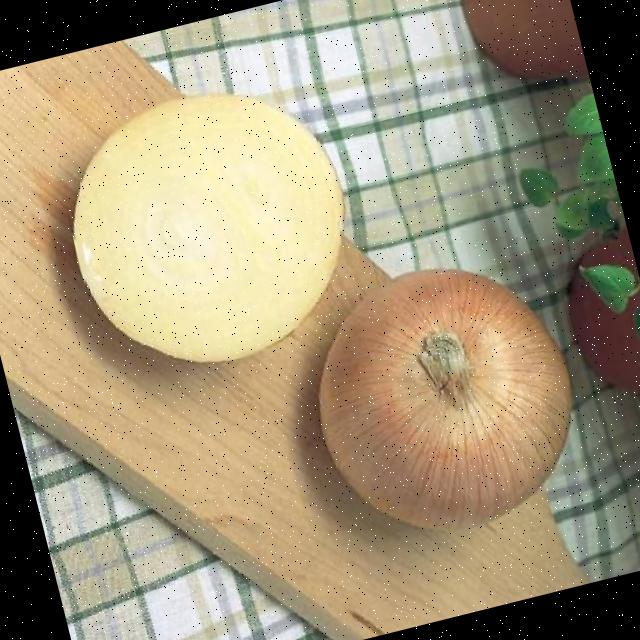Onion: (318, 269, 570, 531)
